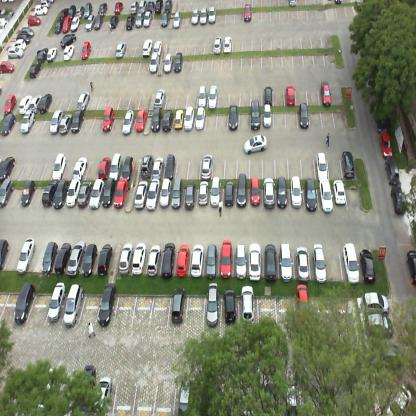car: (383, 381, 411, 415), (61, 289, 86, 326), (12, 282, 35, 322), (97, 282, 116, 325), (373, 346, 404, 372), (46, 283, 66, 321), (359, 290, 390, 314), (15, 238, 35, 275), (66, 242, 85, 279), (364, 312, 394, 335), (240, 284, 255, 328), (40, 241, 58, 277), (205, 281, 219, 327), (279, 243, 294, 283), (80, 243, 98, 276), (53, 241, 71, 274), (318, 382, 336, 415), (345, 242, 359, 284), (170, 287, 186, 323), (50, 152, 68, 184), (313, 243, 327, 283), (117, 241, 133, 276), (384, 154, 401, 186), (144, 178, 160, 211), (263, 382, 279, 415), (243, 134, 268, 155), (96, 243, 112, 275), (189, 244, 204, 278), (131, 242, 146, 276), (318, 180, 333, 214), (296, 283, 308, 325), (161, 242, 175, 278), (390, 184, 406, 215), (112, 178, 128, 209), (88, 178, 104, 209), (52, 179, 68, 210), (175, 244, 190, 277), (146, 244, 161, 277), (99, 374, 112, 411), (223, 288, 236, 324), (83, 364, 96, 400), (19, 179, 35, 208), (296, 247, 310, 280), (261, 176, 275, 209), (170, 177, 184, 210), (362, 246, 374, 284), (249, 241, 260, 282), (133, 179, 148, 209), (341, 146, 355, 178), (41, 179, 57, 207), (220, 239, 232, 276), (304, 178, 317, 212), (209, 176, 222, 209), (205, 243, 217, 278), (378, 129, 392, 159), (290, 175, 302, 210), (65, 179, 80, 207), (265, 244, 276, 282), (76, 180, 92, 206), (99, 106, 115, 132), (284, 386, 298, 415), (236, 172, 247, 208), (0, 237, 11, 273), (158, 178, 171, 208), (101, 178, 114, 208), (48, 110, 63, 136), (20, 110, 35, 136), (236, 242, 247, 277), (179, 378, 191, 410), (1, 153, 15, 180), (332, 178, 346, 204), (120, 110, 134, 136), (249, 176, 260, 208), (71, 109, 85, 134), (183, 182, 195, 211), (72, 156, 87, 179), (58, 111, 73, 134), (406, 248, 415, 286), (276, 176, 286, 210), (200, 153, 213, 179), (109, 153, 122, 179), (1, 180, 14, 206), (316, 154, 328, 182), (38, 92, 52, 116), (250, 98, 260, 131), (140, 155, 153, 180), (197, 180, 209, 207), (150, 108, 162, 135), (0, 112, 14, 135), (298, 101, 309, 130), (228, 103, 239, 132), (161, 108, 174, 132), (97, 156, 111, 178), (135, 107, 146, 135), (76, 90, 90, 112), (224, 180, 235, 207), (152, 156, 164, 180), (59, 32, 77, 48), (164, 154, 175, 180), (321, 82, 332, 108), (153, 88, 165, 111), (122, 155, 133, 180), (194, 106, 205, 131), (18, 94, 31, 115), (3, 93, 16, 114), (207, 85, 218, 109), (173, 108, 184, 132), (262, 102, 272, 128), (184, 106, 194, 132), (6, 44, 24, 58), (114, 39, 126, 60), (140, 38, 152, 59), (285, 84, 295, 108), (0, 59, 16, 74), (79, 41, 91, 61), (197, 85, 207, 108), (28, 62, 41, 79), (148, 54, 159, 74), (171, 9, 181, 31), (36, 46, 48, 64), (45, 46, 57, 64), (62, 44, 74, 61), (31, 93, 41, 113), (198, 6, 208, 26), (152, 38, 163, 56), (163, 52, 172, 74), (207, 4, 216, 26), (10, 39, 26, 51), (27, 14, 43, 26), (62, 14, 72, 33), (20, 24, 35, 36), (190, 7, 200, 25), (173, 53, 182, 72), (214, 36, 223, 55), (243, 4, 252, 23), (84, 12, 93, 31), (52, 17, 62, 34), (124, 15, 134, 32), (34, 3, 48, 15), (16, 32, 31, 43), (143, 10, 152, 28), (265, 86, 273, 106), (113, 1, 124, 15), (224, 36, 233, 53), (83, 2, 92, 18), (58, 7, 69, 20), (98, 1, 108, 15), (70, 15, 80, 29), (92, 14, 102, 28), (108, 14, 118, 28), (164, 0, 173, 15), (67, 4, 76, 19), (160, 12, 168, 28), (154, 0, 163, 14), (136, 12, 143, 29), (138, 0, 146, 14), (129, 1, 137, 15), (75, 5, 84, 16), (146, 1, 154, 13), (288, 0, 297, 8)
